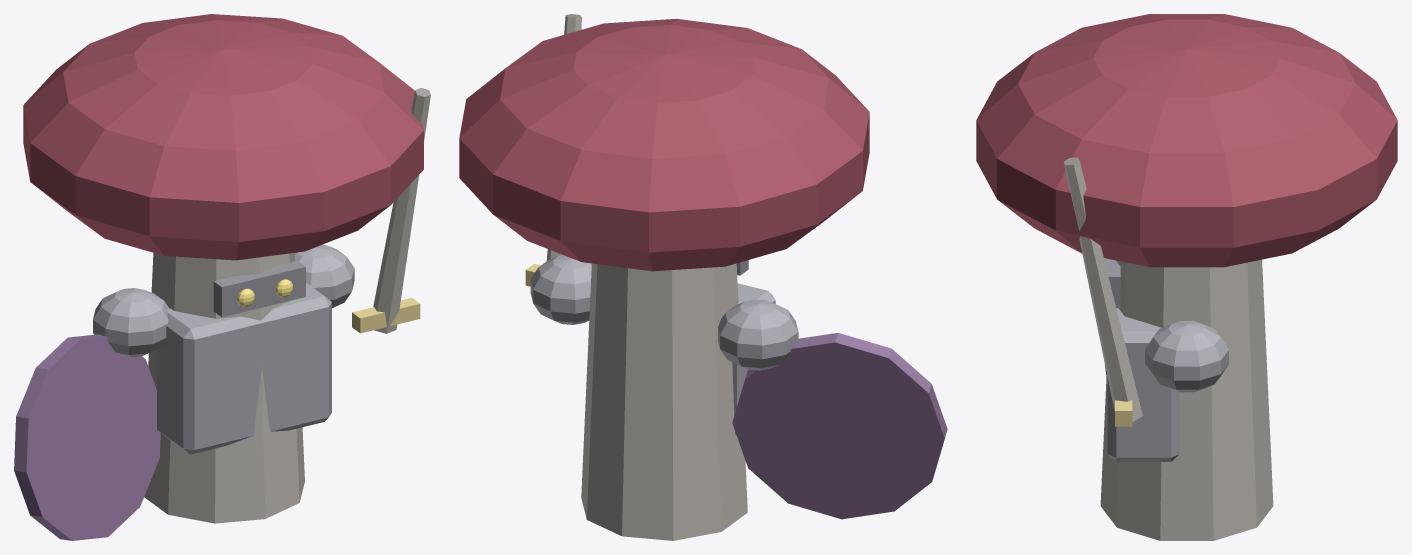
The model's file is MushroomKnight.fbx.
3 views of the same model, side by side, from view 1: azimuth 30°, elevation 25°; view 2: azimuth 150°, elevation 25°; view 3: azimuth 270°, elevation 25° (orthographic). The views are drawn at different scales.
Visible parts, largest first — view 1: Enemy_MushroomKnight; view 2: Enemy_MushroomKnight; view 3: Enemy_MushroomKnight.
Part boxes in pixels (x1,y1,x2,y2): Enemy_MushroomKnight: (14,14,430,540); Enemy_MushroomKnight: (459,14,947,540); Enemy_MushroomKnight: (976,14,1397,540).
Size of the model in its own units: 1.72 by 1.75 by 1.46.
